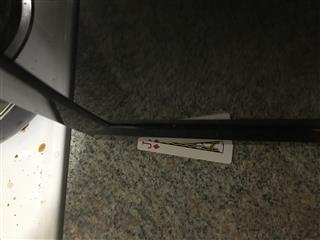JackOfDiamonds: (136, 136, 234, 165)
